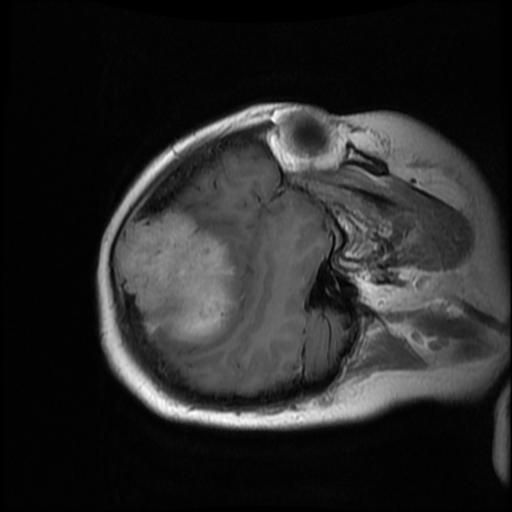meningioma: (113, 212, 236, 341)
